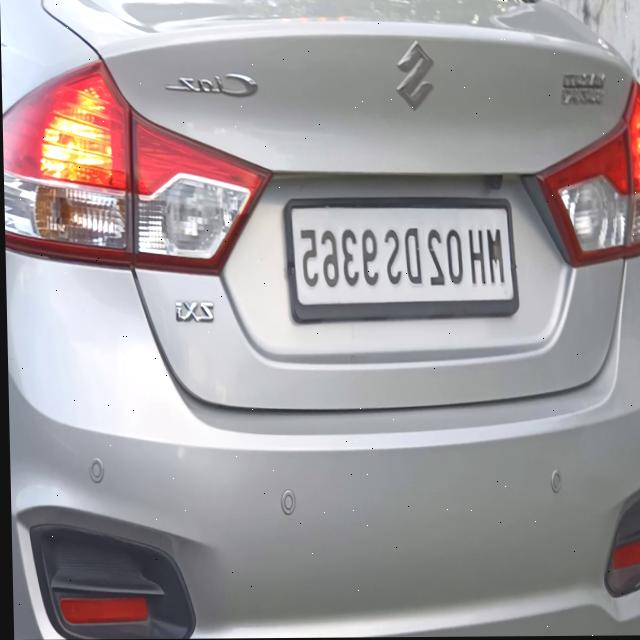plate: (282, 194, 518, 327)
